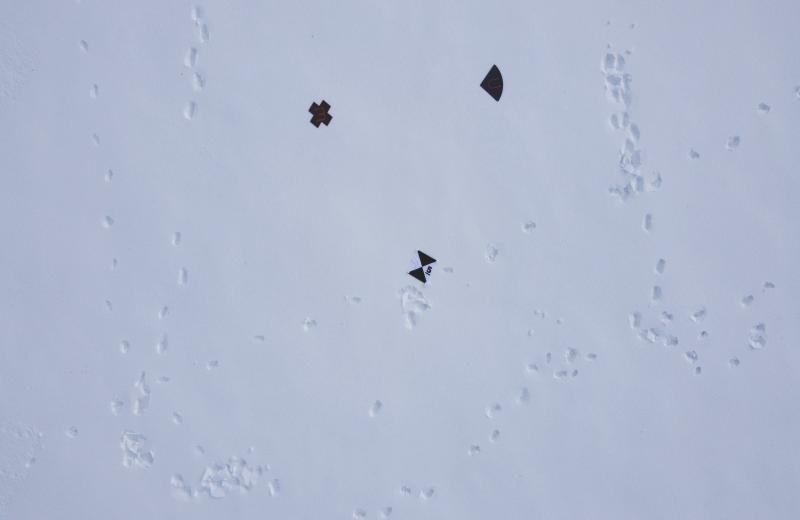Cross: (306, 96, 336, 131)
Rectangle: (477, 62, 507, 105)
